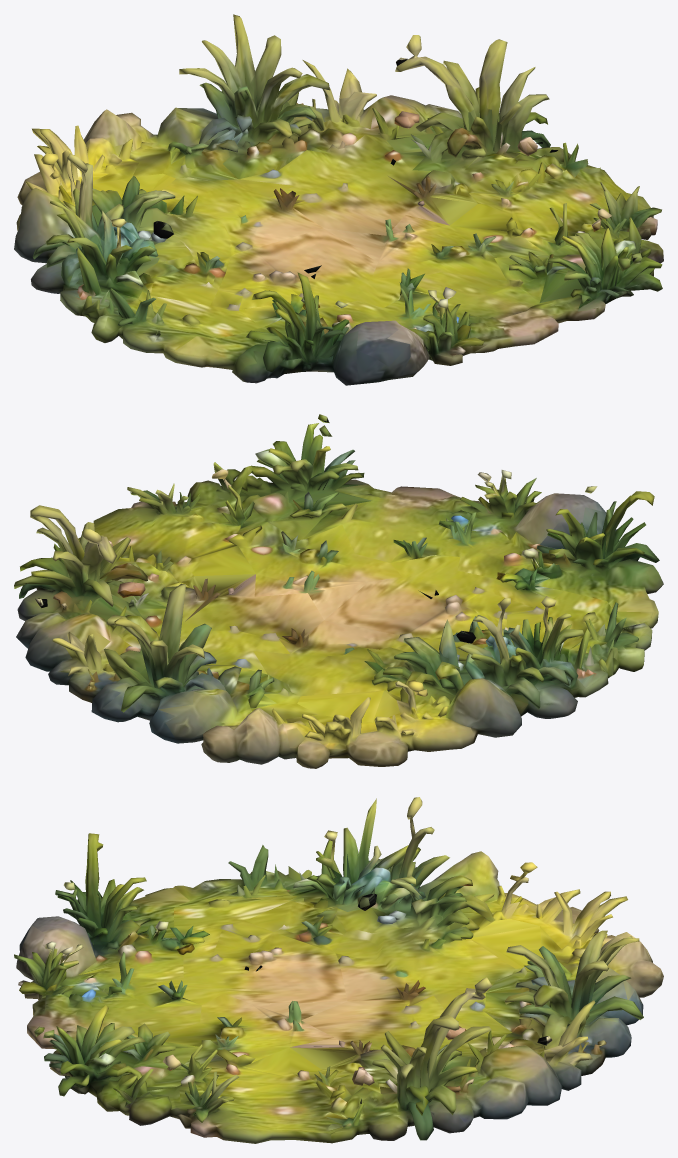
File: grass_patch.glb
The picture shows the model from 3 angles, top to bottom: view 1: azimuth 30°, elevation 25°; view 2: azimuth 150°, elevation 25°; view 3: azimuth 270°, elevation 25°; orthographic projection. The views are drawn at different scales.
Parts seen in each view (by area): view 1: GrassPatch; view 2: GrassPatch; view 3: GrassPatch.
Boxes of the visible parts, <box> form: GrassPatch: <box>14,14,663,385</box>; GrassPatch: <box>14,414,663,768</box>; GrassPatch: <box>14,797,663,1143</box>.
Size of the model in its own units: 0.9609 by 0.2017 by 1.
Materials: 1 (1 with a texture image).
